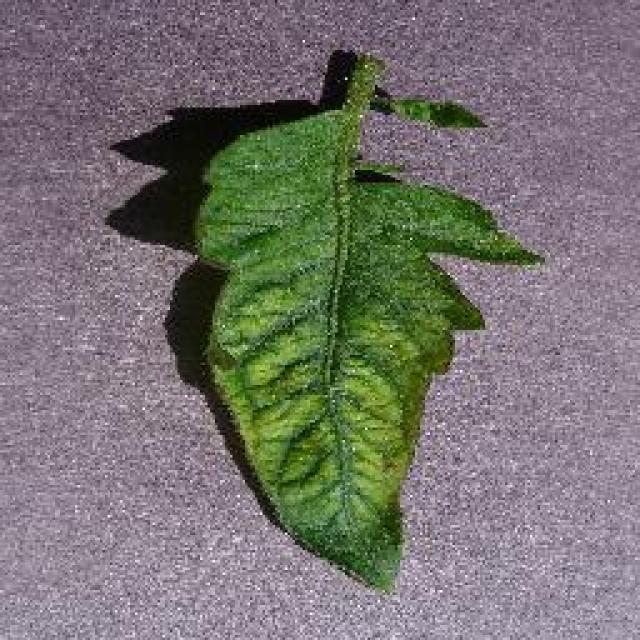Tomato___Tomato_mosaic_virus: (195, 52, 540, 588)
